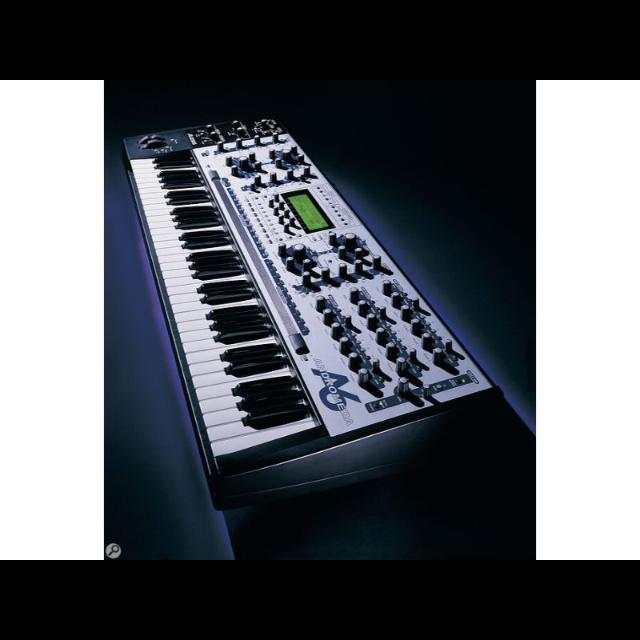Electronic-Keyboard: (124, 116, 500, 494)
